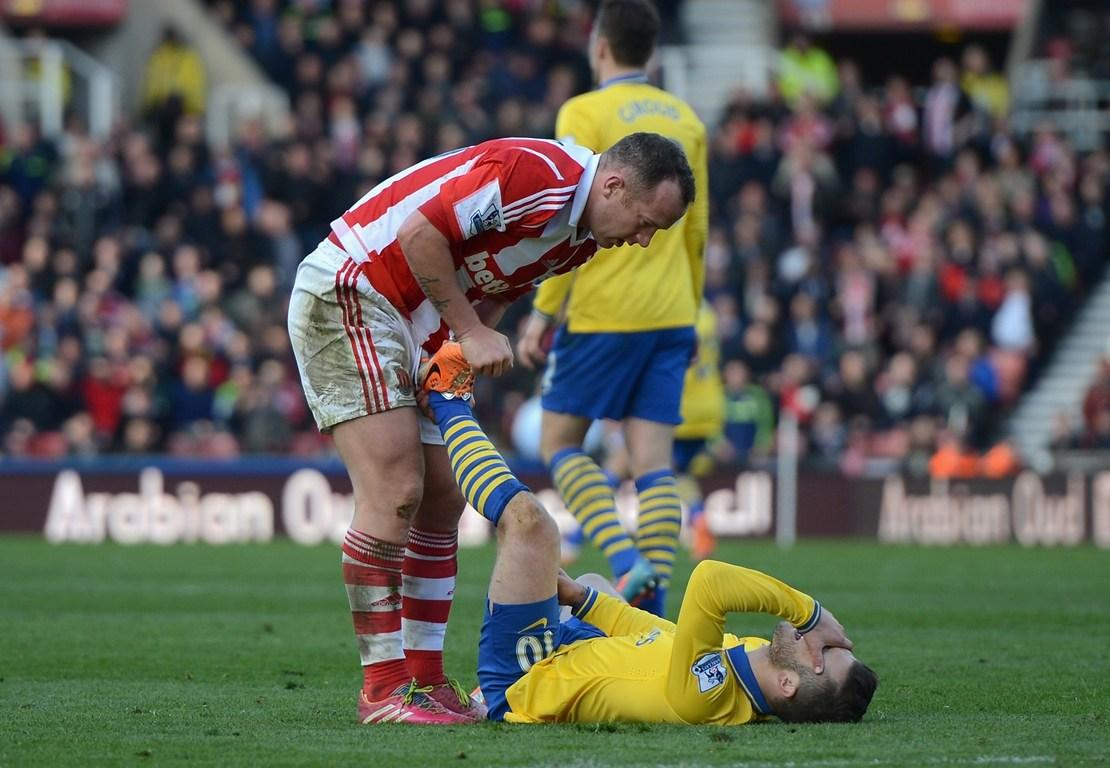bending: (278, 129, 701, 724)
down: (406, 514, 877, 745)
up: (519, 3, 721, 617)
